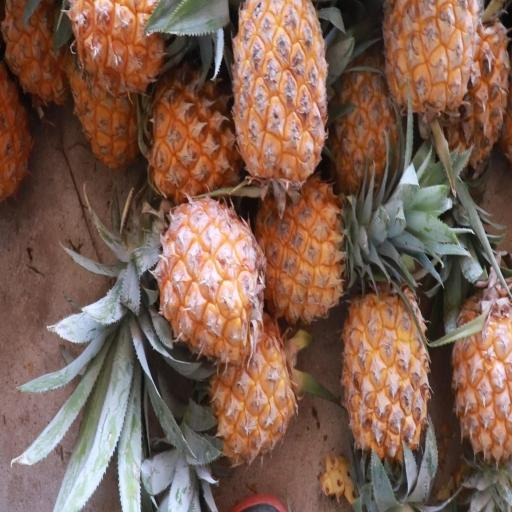Pineapple - v8 v1: (155, 190, 269, 368), (230, 0, 330, 194), (341, 270, 433, 480), (204, 300, 302, 473), (252, 167, 354, 331), (146, 59, 240, 208), (448, 257, 512, 458), (378, 2, 473, 116)
